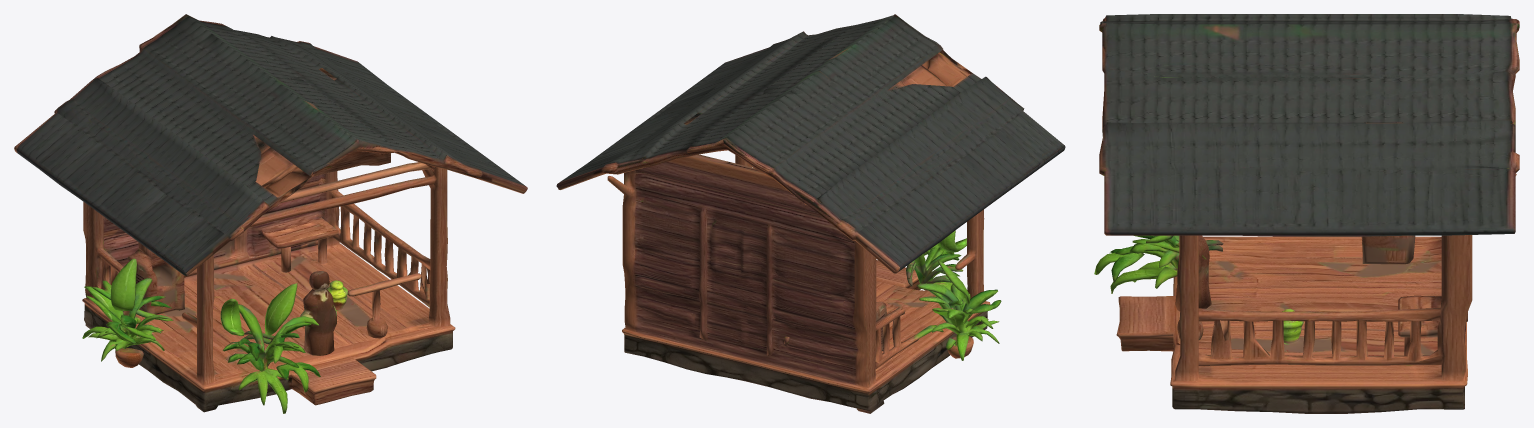
3 views of the same model, side by side, from view 1: azimuth 30°, elevation 25°; view 2: azimuth 150°, elevation 25°; view 3: azimuth 270°, elevation 25° (orthographic). The views are drawn at different scales.
Visible parts, largest first — view 1: obj1; view 2: obj1; view 3: obj1.
Part boxes in pixels (left/top/right/bottom): obj1: left=14, top=14, right=527, bottom=413; obj1: left=556, top=14, right=1065, bottom=413; obj1: left=1094, top=14, right=1519, bottom=413.
Bounding box in the file's own units: 189 × 136 × 164.
1 material, 1 textured.
